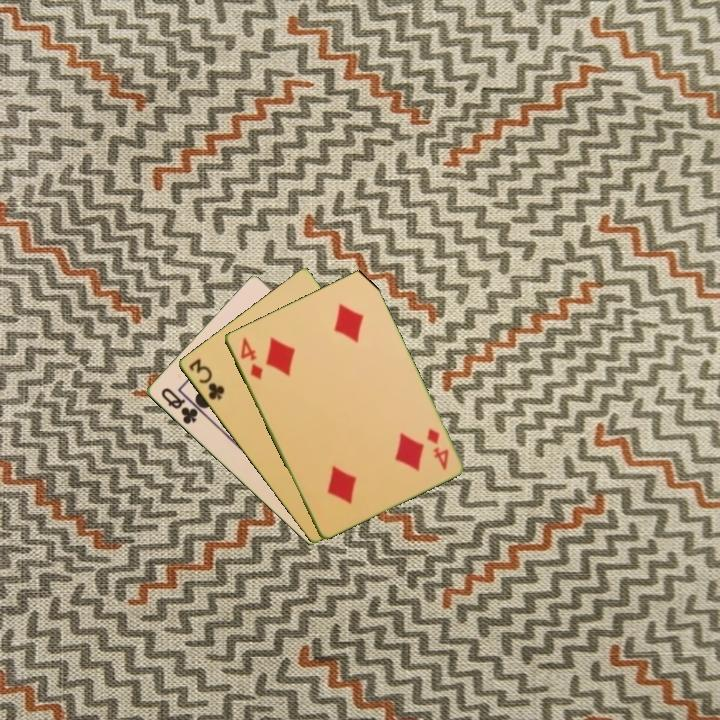3c: (185, 355, 227, 403)
4d: (236, 334, 266, 383), (423, 425, 451, 473)
Qc: (157, 384, 200, 427)
